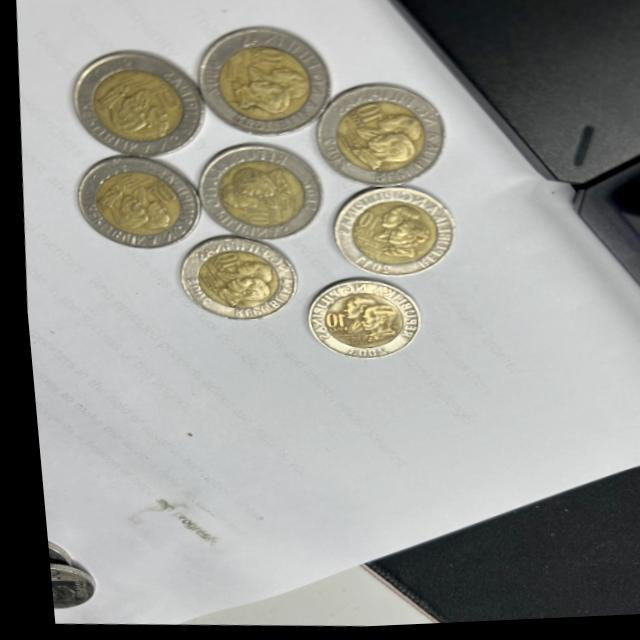10_Old_Front: (353, 213, 383, 235), (255, 51, 285, 72), (211, 253, 242, 273), (236, 211, 267, 231), (353, 108, 382, 129), (144, 187, 174, 207), (152, 93, 179, 111), (318, 316, 340, 334)
